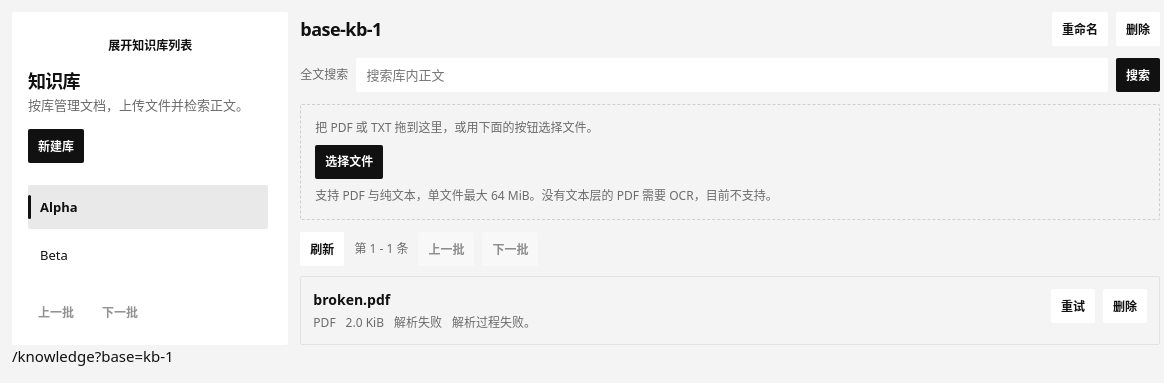
Test case: KnowledgePage › does not surface a late document retry in another base
Expected: the text "broken.pdf" is shown, [313, 290, 390, 309]
What coordinates should you click on to do the following:
click the button "重试"
I would click on:
 (1073, 306)
Its box is [1051, 289, 1095, 323].
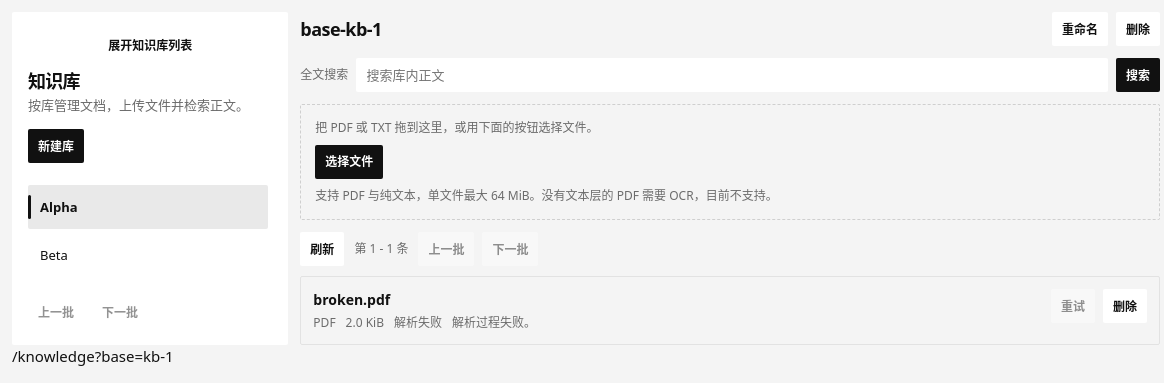
What coordinates should you click on to do the following:
click the button "Beta"
I would click on:
 (148, 255)
Its box is [28, 233, 268, 277].
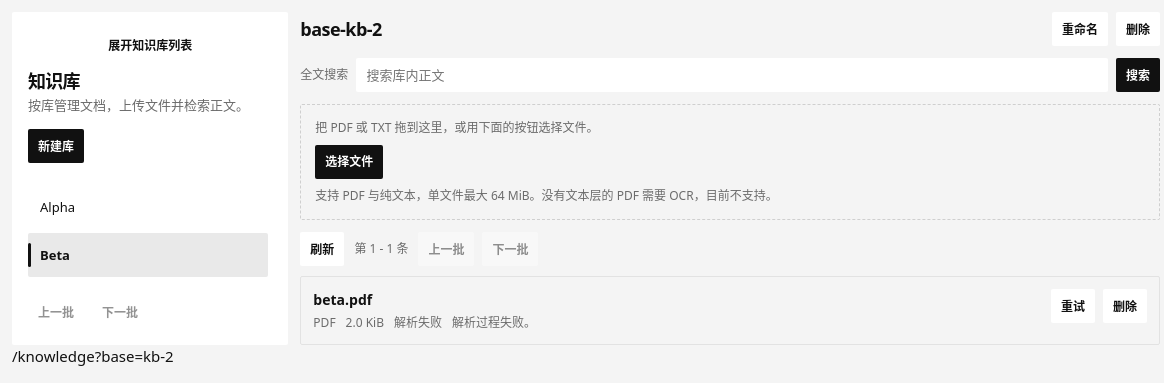
Now the text "beta.pdf" is shown, box [313, 290, 372, 309]
